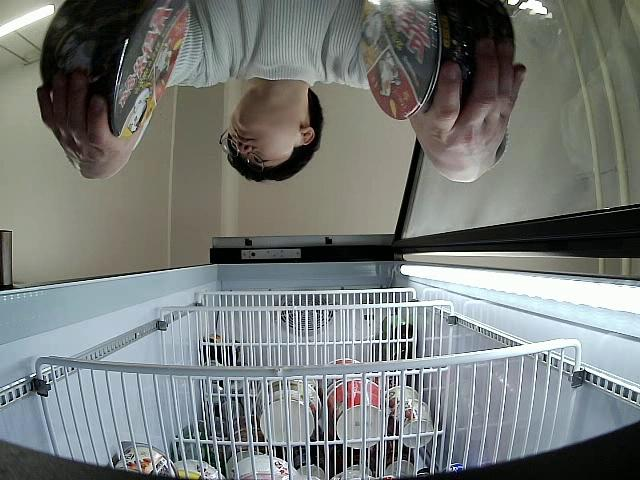00_hand: (407, 34, 520, 184), (36, 76, 154, 182)
07_buldak_L: (34, 0, 189, 140), (359, 0, 519, 121)
